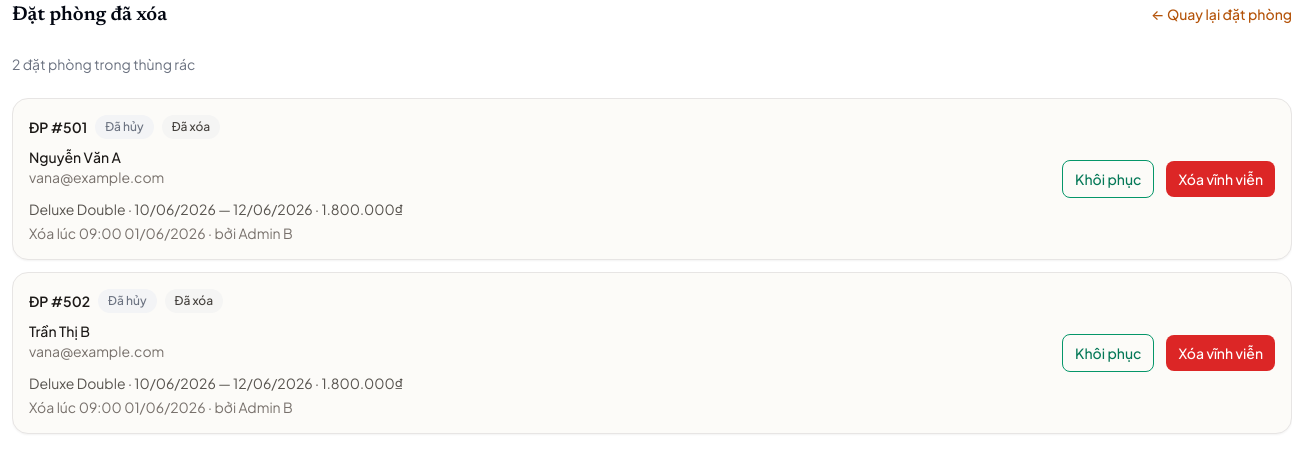
TrashedBookings › restores a booking and removes it from the list
The image size is (1304, 451).
Expected: the text "ĐP #501" is shown, [29, 117, 87, 137]
Click the button "Khôi phục" in the row of "Nguyễn Văn A": (1108, 179) [1062, 160, 1154, 198]
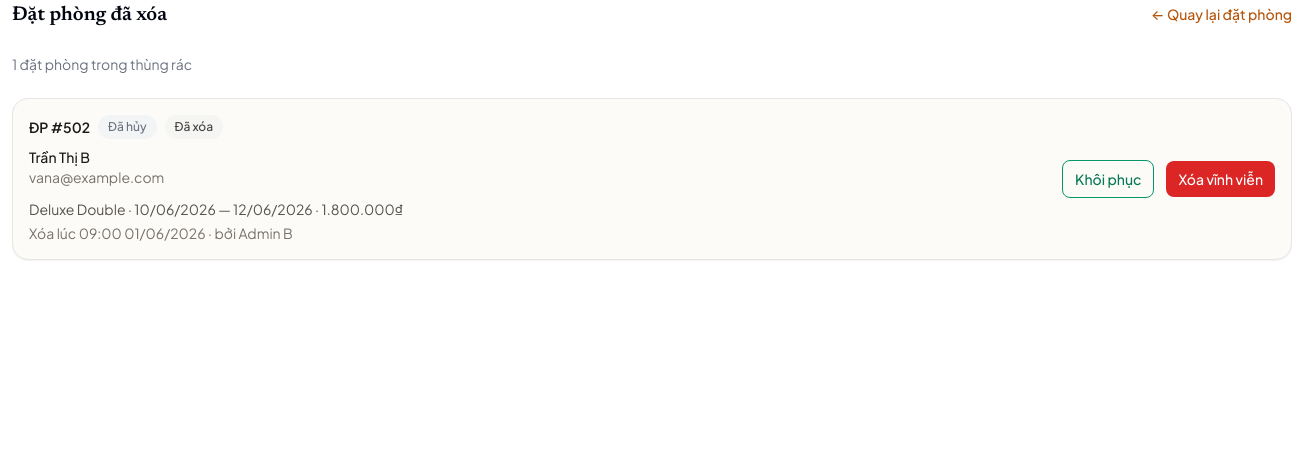
Expected: the text "ĐP #502" is shown, [29, 117, 90, 137]
Now the text "ĐP #501" is gone
